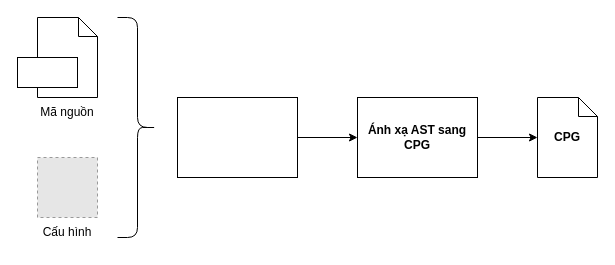
Some shapes in this 615 by 265 pixel diagram are drawn without their labels. Grey dashed boxes stand in for pictures. Each missing label, with the centre of its shape:
"Phân tích mã nguồn thành cây AST" belongs at pixel 237 137.
"Rust (.rs)" belongs at pixel 47 72.
